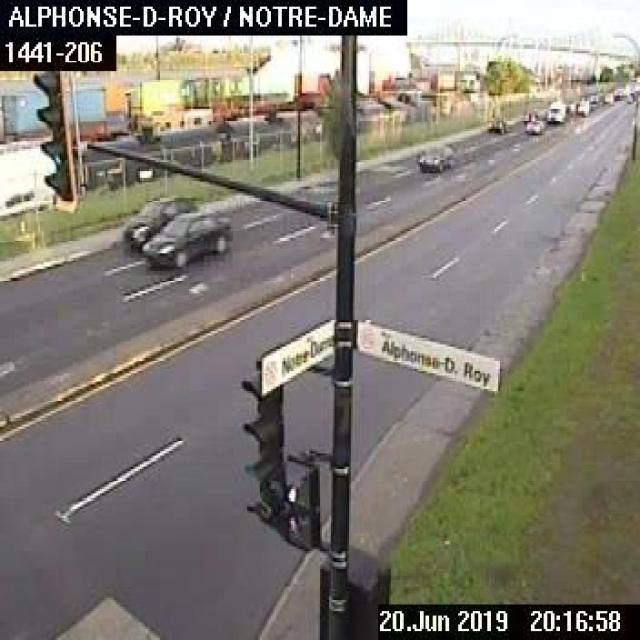vehicle: (141, 207, 233, 269), (118, 192, 198, 255), (414, 142, 452, 171), (542, 98, 566, 126), (520, 114, 544, 136), (486, 114, 509, 134), (573, 94, 592, 118), (520, 107, 536, 120)
